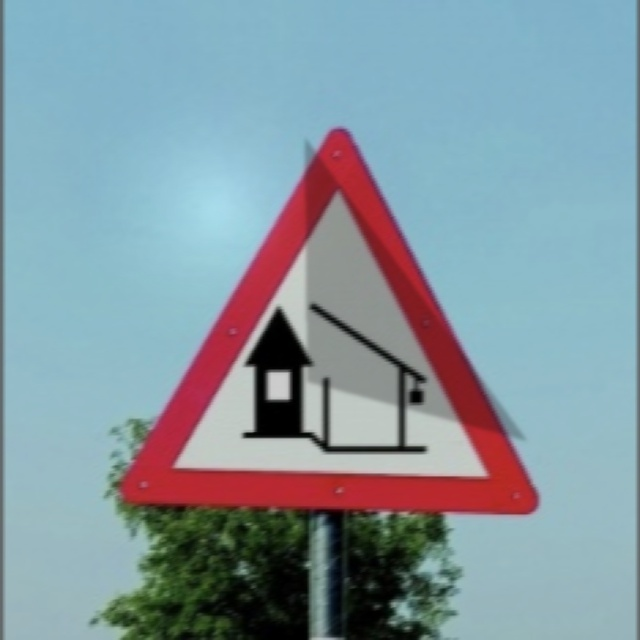Barrier_Ahead: (139, 129, 525, 520)
